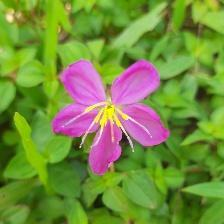malabar melastome: (52, 59, 173, 177)
